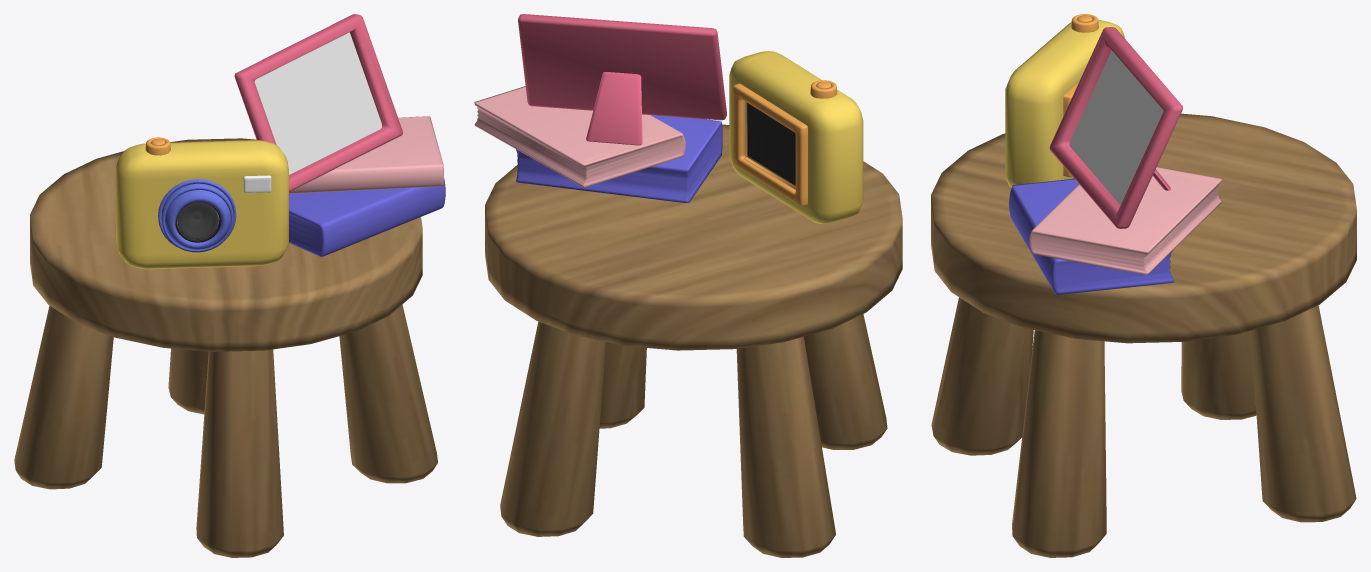
Rendered from table.v2.glb.
3 renders of one model, left to right at view 1: azimuth 30°, elevation 25°; view 2: azimuth 150°, elevation 25°; view 3: azimuth 270°, elevation 25°, orthographic. The views are drawn at different scales.
Parts seen in each view (by area): view 1: Cylinder.006, table, camera, frame_screen, book_big, frame, book_small, camera_lens_outer, camera_lens_inner, camera_lens; view 2: table, Cylinder.006, frame, camera, book_small, book_big, camera_screen, frame_leg; view 3: table, Cylinder.006, book_small, camera, frame_screen, frame, book_big.
Part boxes in pixels (x1,y1,x2,y2): Cylinder.006: (14, 304, 437, 557); table: (30, 138, 422, 351); camera: (116, 140, 288, 269); frame_screen: (254, 32, 381, 174); book_big: (289, 178, 445, 256); frame: (234, 14, 402, 191); book_small: (289, 116, 443, 193); camera_lens_outer: (158, 179, 236, 252); camera_lens_inner: (177, 202, 218, 239); camera_lens: (178, 203, 218, 239); table: (485, 124, 902, 350); Cylinder.006: (500, 314, 887, 557); frame: (518, 14, 726, 120); camera: (729, 51, 863, 223); book_small: (474, 86, 685, 187); book_big: (515, 115, 722, 202); camera_screen: (733, 83, 807, 206); frame_leg: (586, 72, 642, 145); table: (931, 113, 1356, 343); Cylinder.006: (931, 297, 1356, 557); book_small: (1029, 167, 1221, 274); camera: (1005, 19, 1124, 187); frame_screen: (1069, 50, 1163, 205); frame: (1049, 27, 1182, 228); book_big: (1009, 178, 1173, 294).
Bounding box in the file's own units: 2.15 × 2.24 × 1.94.
Materials: 4 (2 with a texture image).
